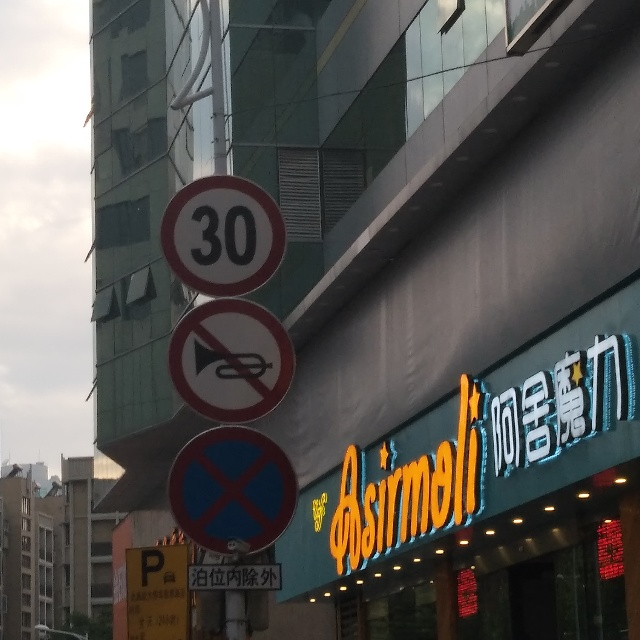nohonk: (167, 296, 301, 424)
stop: (165, 421, 306, 565)
